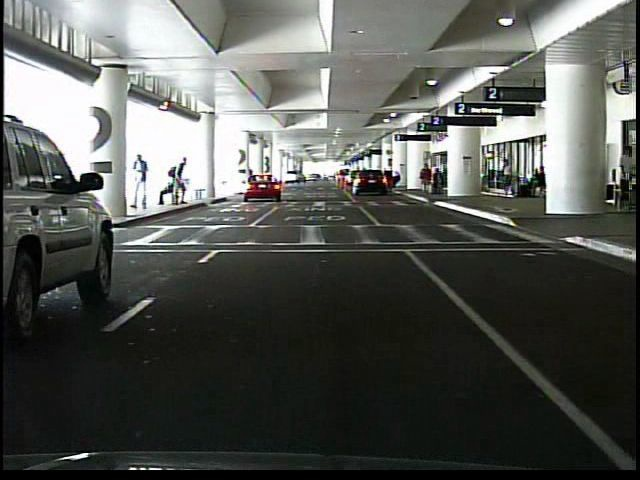person: (167, 159, 193, 206), (132, 153, 150, 209), (157, 171, 183, 207), (417, 163, 433, 196), (617, 143, 632, 177), (501, 159, 513, 198), (438, 167, 439, 193)
